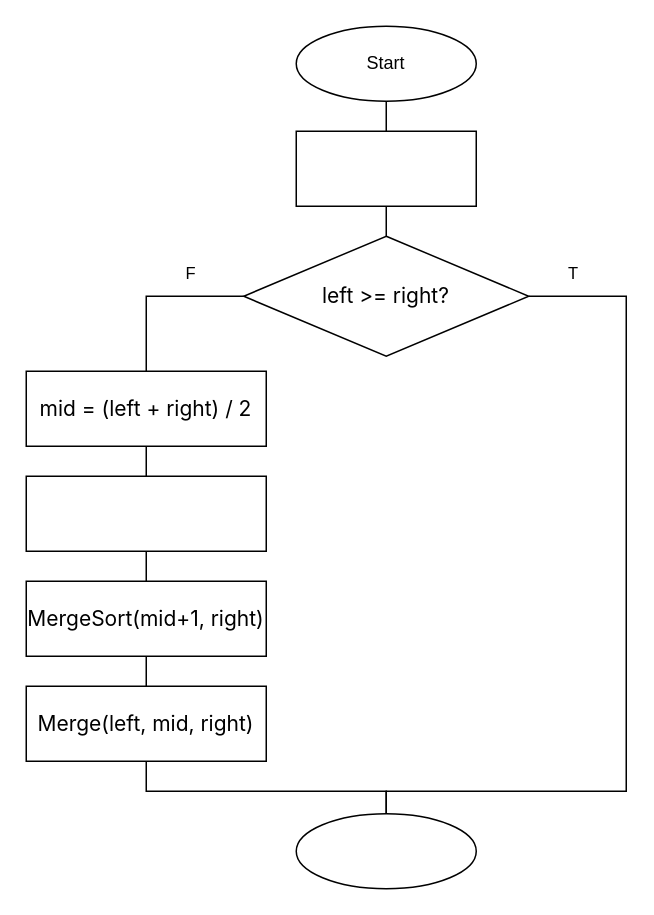
This 654x915 diagram has some shape labels left out. The centre of each missing label's shape, as x and y in pixels:
"End" belongs at (385,850).
"MergeSort(left, mid)" belongs at (145,513).
"stats.Recursions++" belongs at (385,168).
